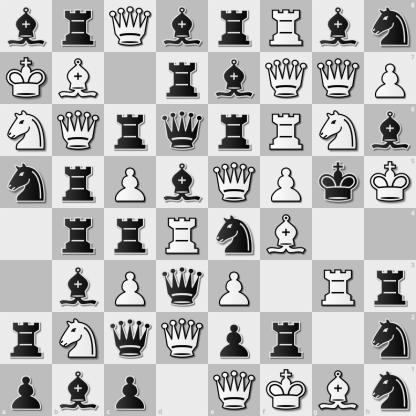B: (312, 364, 364, 416), (53, 53, 104, 104), (261, 209, 312, 260)
K: (364, 156, 416, 209), (260, 364, 312, 416), (1, 53, 52, 104)
N: (1, 105, 52, 156), (53, 313, 104, 364), (313, 105, 364, 156)
P: (364, 52, 416, 104), (105, 157, 156, 208), (105, 261, 156, 312), (209, 261, 260, 312), (261, 157, 312, 208)
Q: (209, 364, 260, 416), (53, 105, 104, 156), (105, 1, 156, 52), (157, 313, 208, 364), (209, 157, 260, 208), (261, 53, 312, 104), (313, 53, 364, 104)
R: (157, 209, 208, 260), (261, 1, 312, 52), (261, 105, 312, 156), (313, 261, 364, 312)
b: (52, 364, 104, 416), (364, 104, 416, 156), (1, 1, 52, 52), (53, 261, 104, 312), (157, 1, 208, 52), (157, 157, 208, 208), (209, 53, 260, 104), (313, 1, 364, 52)
board: (0, 0, 415, 415)
k: (313, 157, 364, 208)
n: (364, 0, 416, 52), (364, 312, 416, 364), (364, 364, 416, 416), (1, 157, 52, 208), (209, 209, 260, 260)
p: (0, 364, 52, 416), (104, 364, 156, 416), (209, 313, 260, 364)
q: (105, 313, 156, 364), (157, 105, 208, 156), (157, 261, 208, 312)
r: (364, 260, 416, 312), (1, 313, 52, 364), (53, 1, 104, 52), (53, 157, 104, 208), (53, 209, 104, 260), (105, 105, 156, 156), (105, 209, 156, 260), (157, 53, 208, 104), (209, 1, 260, 52), (209, 105, 260, 156), (261, 313, 312, 364)
